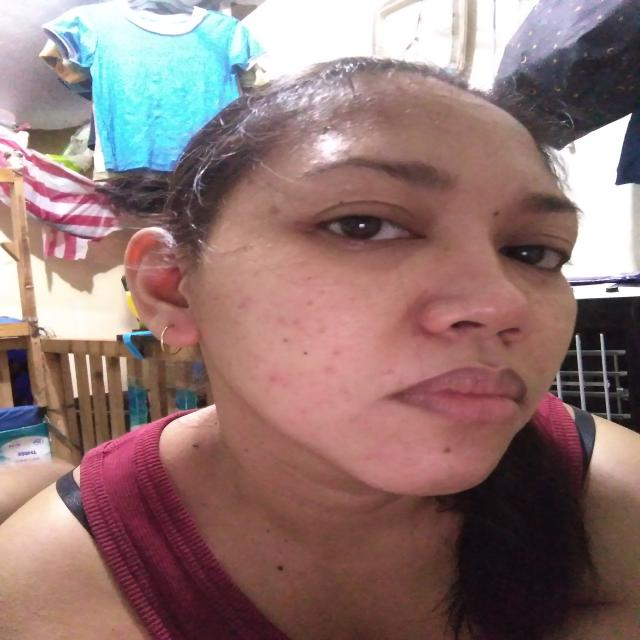Acne: (266, 204, 284, 224), (264, 371, 286, 387), (295, 406, 322, 416), (317, 364, 339, 376), (236, 297, 252, 310), (382, 364, 398, 376), (536, 366, 550, 379), (328, 347, 342, 359), (276, 316, 290, 324)
Eyebags: (295, 232, 437, 276), (500, 252, 567, 294)
